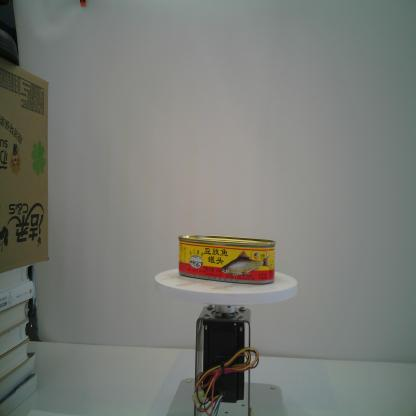Canned Food: (176, 232, 277, 286)
